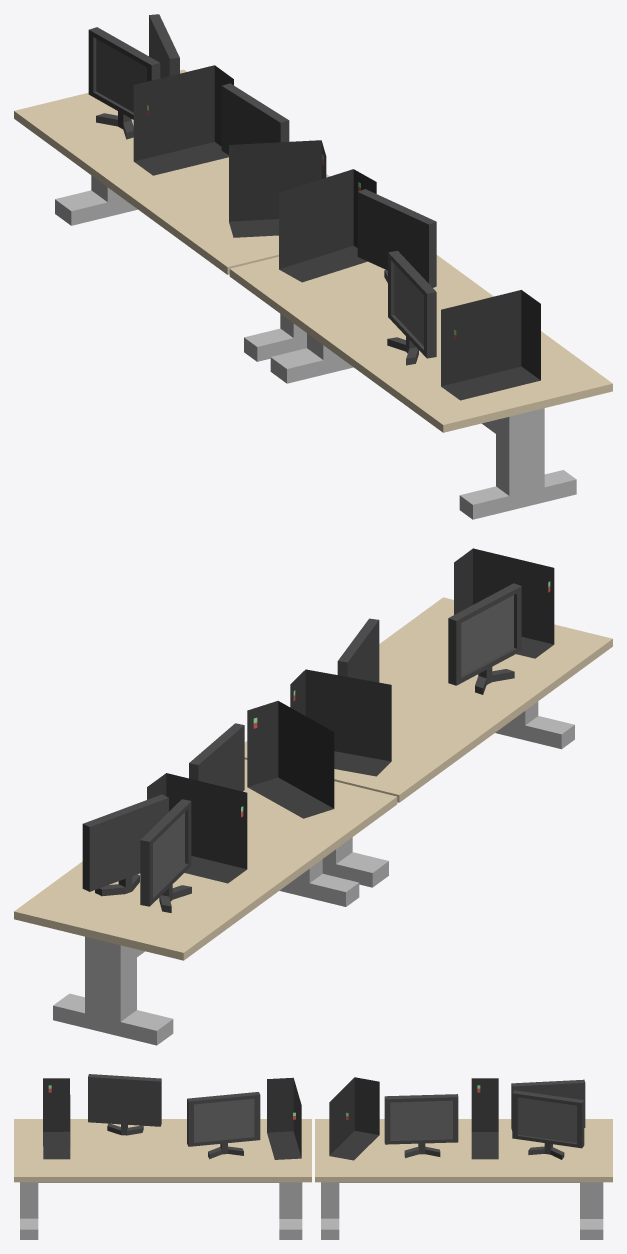
Rendered from floor8tablecom.fbx.
3 views of the same model, one above another, from view 1: azimuth 30°, elevation 25°; view 2: azimuth 150°, elevation 25°; view 3: azimuth 270°, elevation 25° (orthographic). The views are drawn at different scales.
Parts seen in each view (by area): view 1: Cube.001; view 2: Cube.001; view 3: Cube.001.
Boxes of the visible parts, x1,y1,x2,y2 form: Cube.001: [14, 14, 612, 519]; Cube.001: [14, 548, 612, 1045]; Cube.001: [14, 1074, 612, 1239].
Bounding box in the file's own units: 63.93 × 67.98 × 280.
